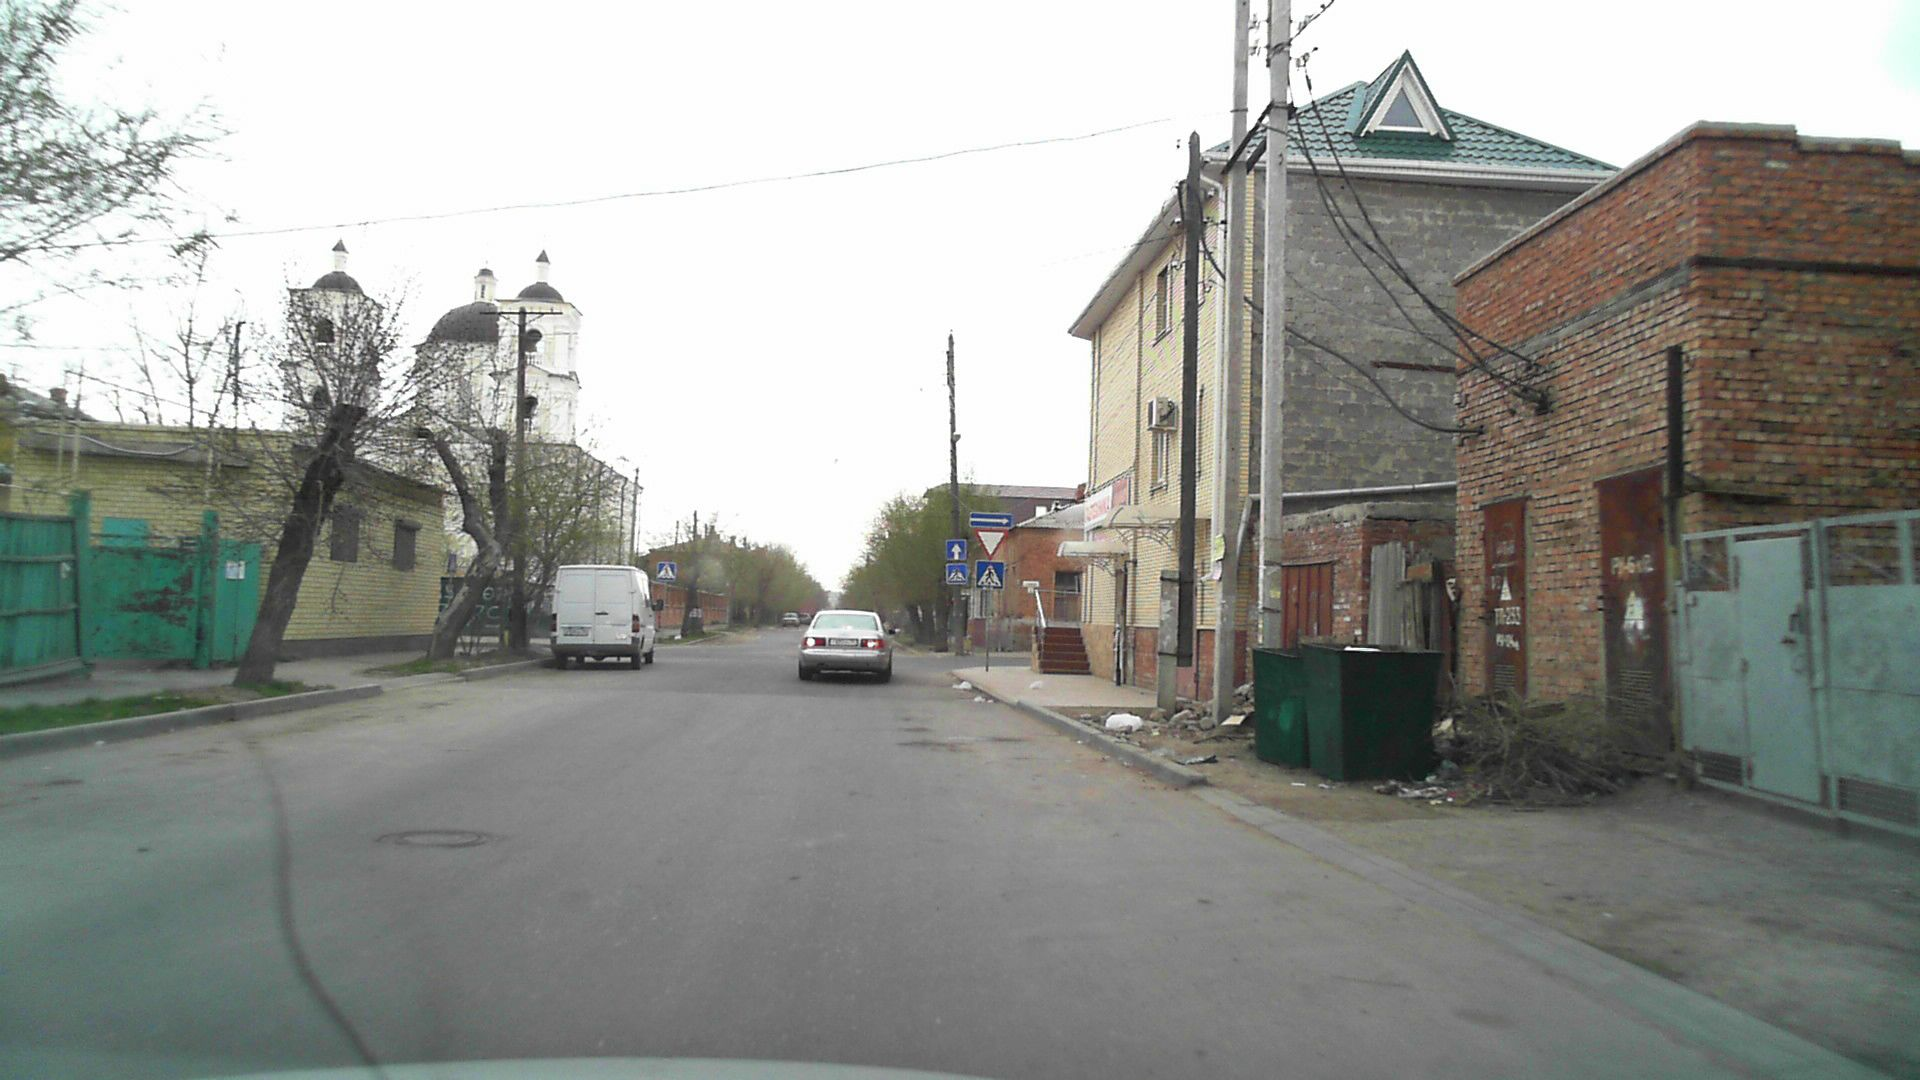One-Way Traffic: (969, 512, 1013, 527)
Pedestrian Crossing: (977, 562, 1004, 588)
